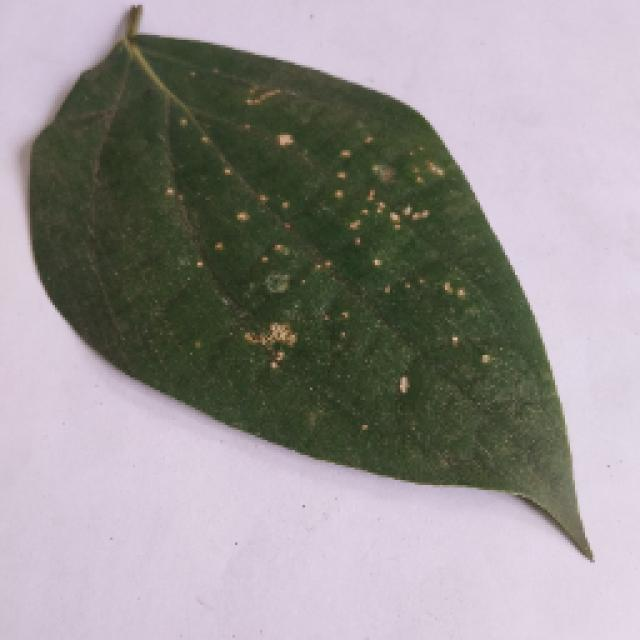pollu-disease: (8, 12, 608, 572)
